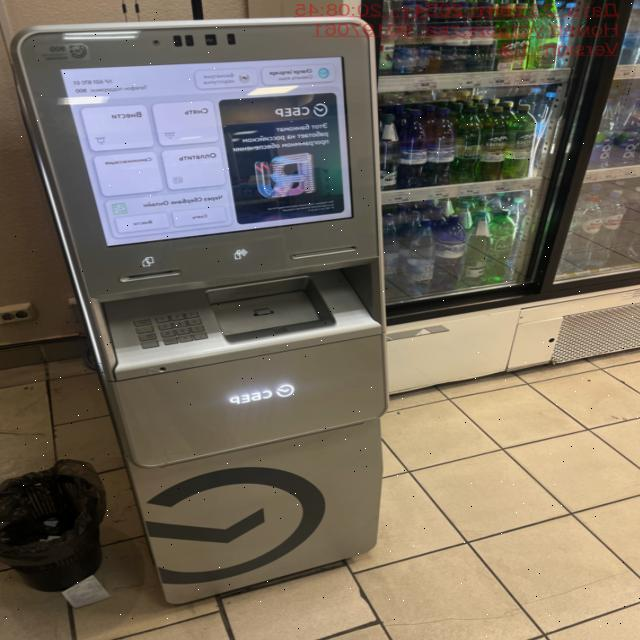bank: (10, 11, 396, 608)
